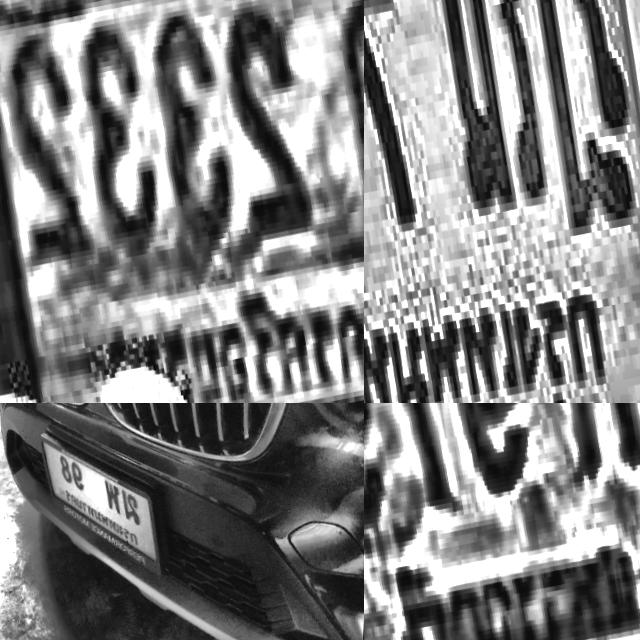license-plate: (0, 0, 364, 403), (364, 0, 640, 403), (364, 403, 640, 640), (33, 410, 173, 598)
